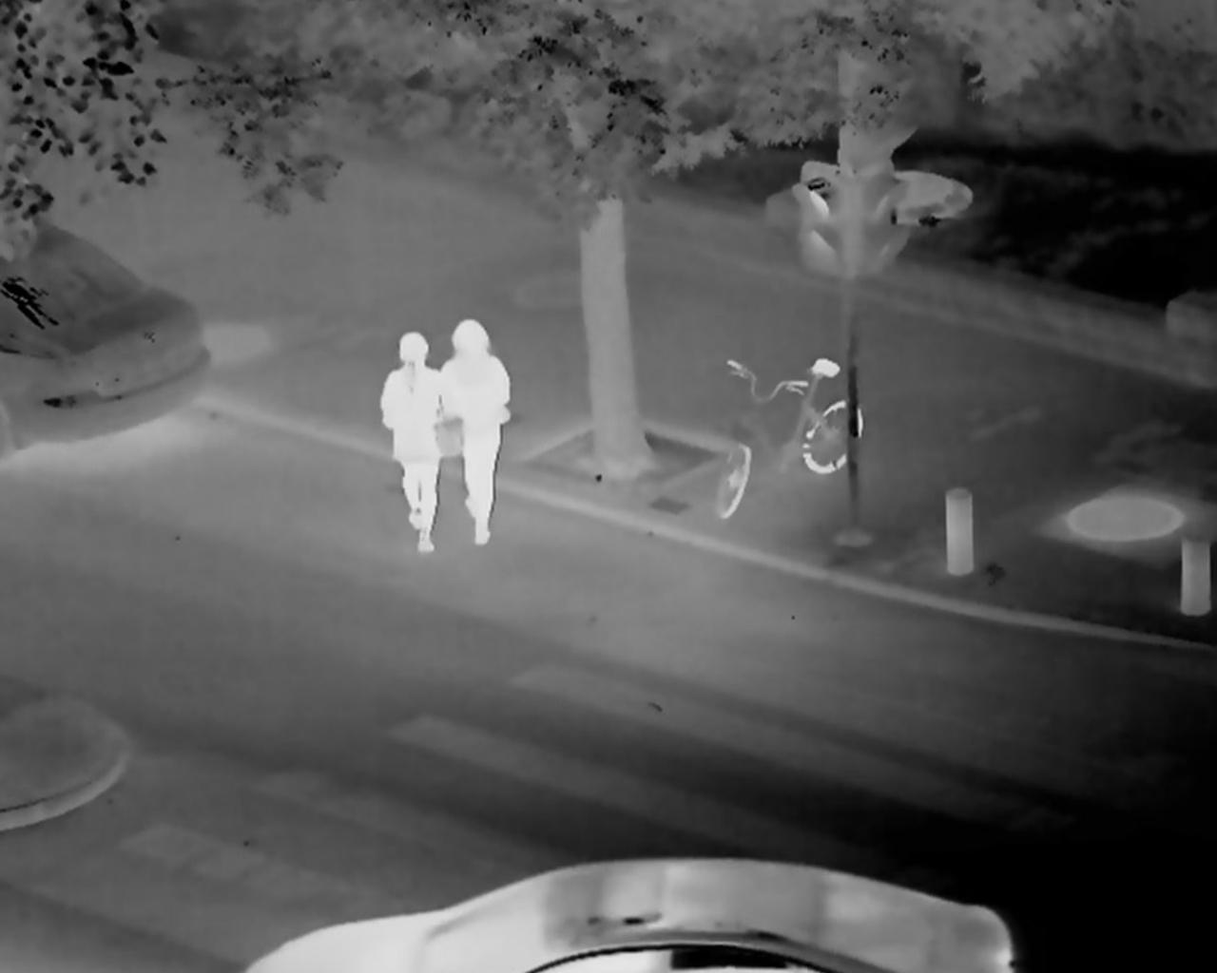person: (437, 319, 510, 547), (378, 330, 449, 555)
